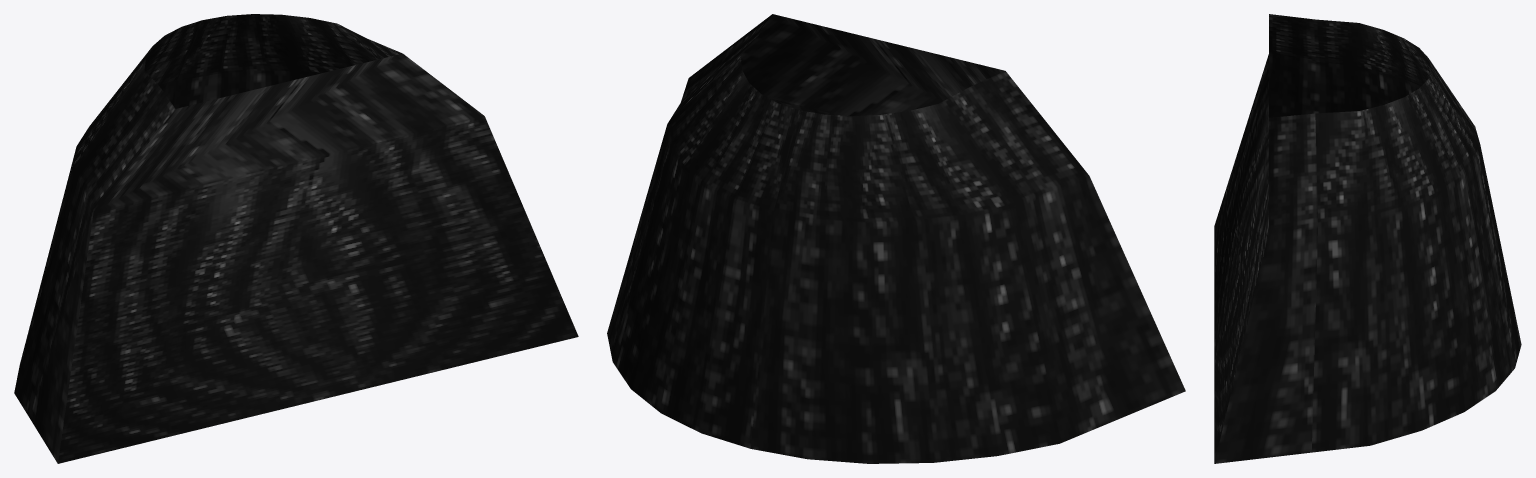
Rendered from hair_aksum_male_03.dae.
3 renders of one model, left to right at view 1: azimuth 30°, elevation 25°; view 2: azimuth 150°, elevation 25°; view 3: azimuth 270°, elevation 25°, orthographic. The views are drawn at different scales.
Visible parts, largest first — view 1: a_hair_aksum_male_03; view 2: a_hair_aksum_male_03; view 3: a_hair_aksum_male_03.
Part boxes in pixels (x1,y1,x2,y2): a_hair_aksum_male_03: (14,14,578,463); a_hair_aksum_male_03: (607,14,1185,463); a_hair_aksum_male_03: (1214,14,1521,463).
Bounding box in the file's own units: 0.8154 × 0.4445 × 0.4456.
